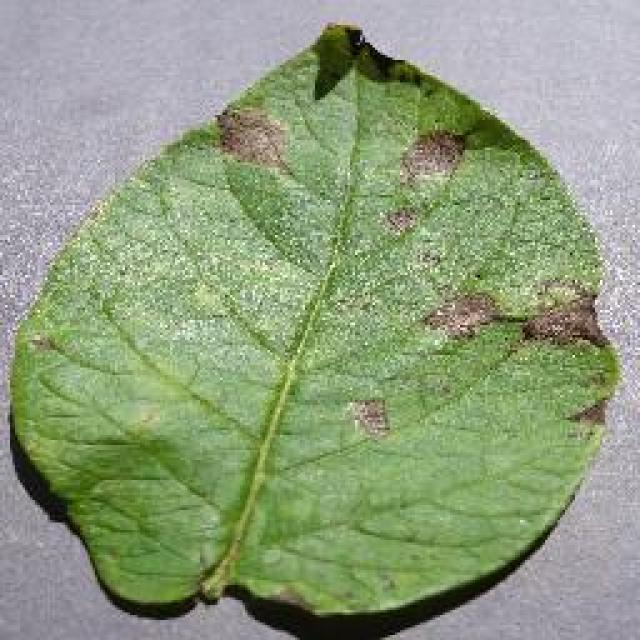Potato: (5, 20, 623, 628)
